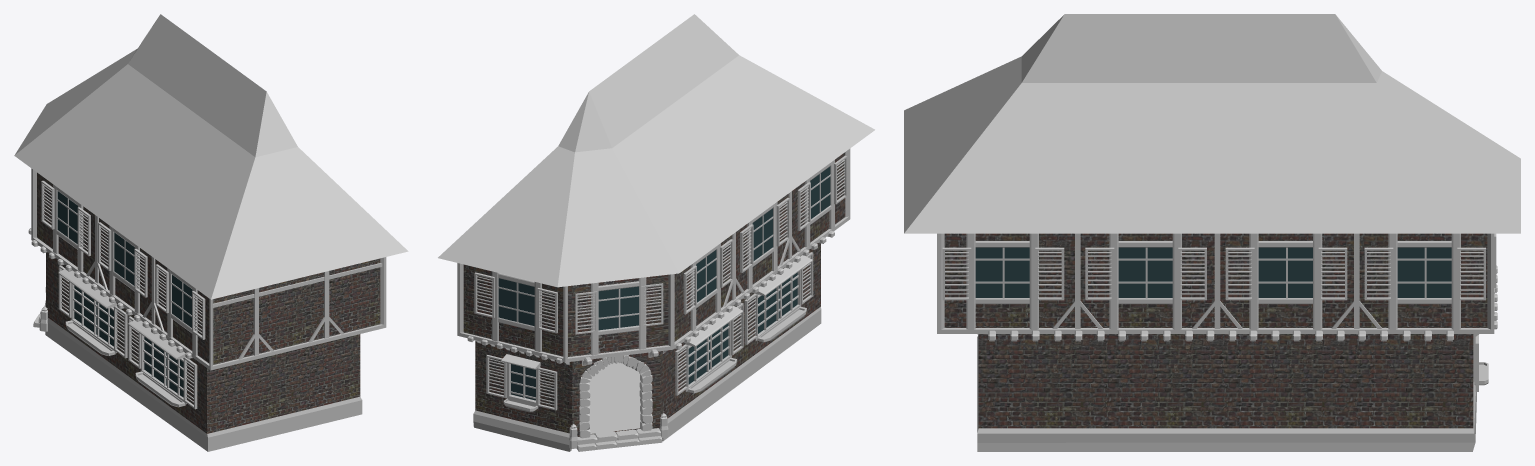
Rendered from HousesAng2.fbx.
The picture shows the model from 3 angles, left to right: view 1: azimuth 30°, elevation 25°; view 2: azimuth 150°, elevation 25°; view 3: azimuth 270°, elevation 25°; orthographic projection. The views are drawn at different scales.
Parts seen in each view (by area): view 1: Cube.855, Cube.878, Cube.833, WindwBottom, WindowTop1.175, Cube.864; view 2: Cube.855, Cube.878, WindowTop1.175, Cube.833, WindwBottom, Cube.864, Cube.872; view 3: Cube.855, Cube.878, WindowTop1.175, Cube.833, Cube.864.
Boxes of the visible parts, x1,y1,x2,y2 form: Cube.855: (14,14,408,299); Cube.878: (45,252,362,451); Cube.833: (37,172,380,364); WindwBottom: (58,265,197,409); WindowTop1.175: (41,180,205,357); Cube.864: (28,168,386,370); Cube.855: (438,14,874,287); Cube.878: (473,243,821,451); WindowTop1.175: (474,155,847,355); Cube.833: (463,152,845,356); WindwBottom: (486,252,813,412); Cube.864: (457,148,850,365); Cube.872: (569,355,668,451); Cube.855: (904,14,1520,233); Cube.878: (977,334,1476,451); WindowTop1.175: (942,233,1496,329); Cube.833: (944,233,1487,327); Cube.864: (937,233,1497,341).
Bounding box in the file's own units: 718 × 1086 × 1519.
